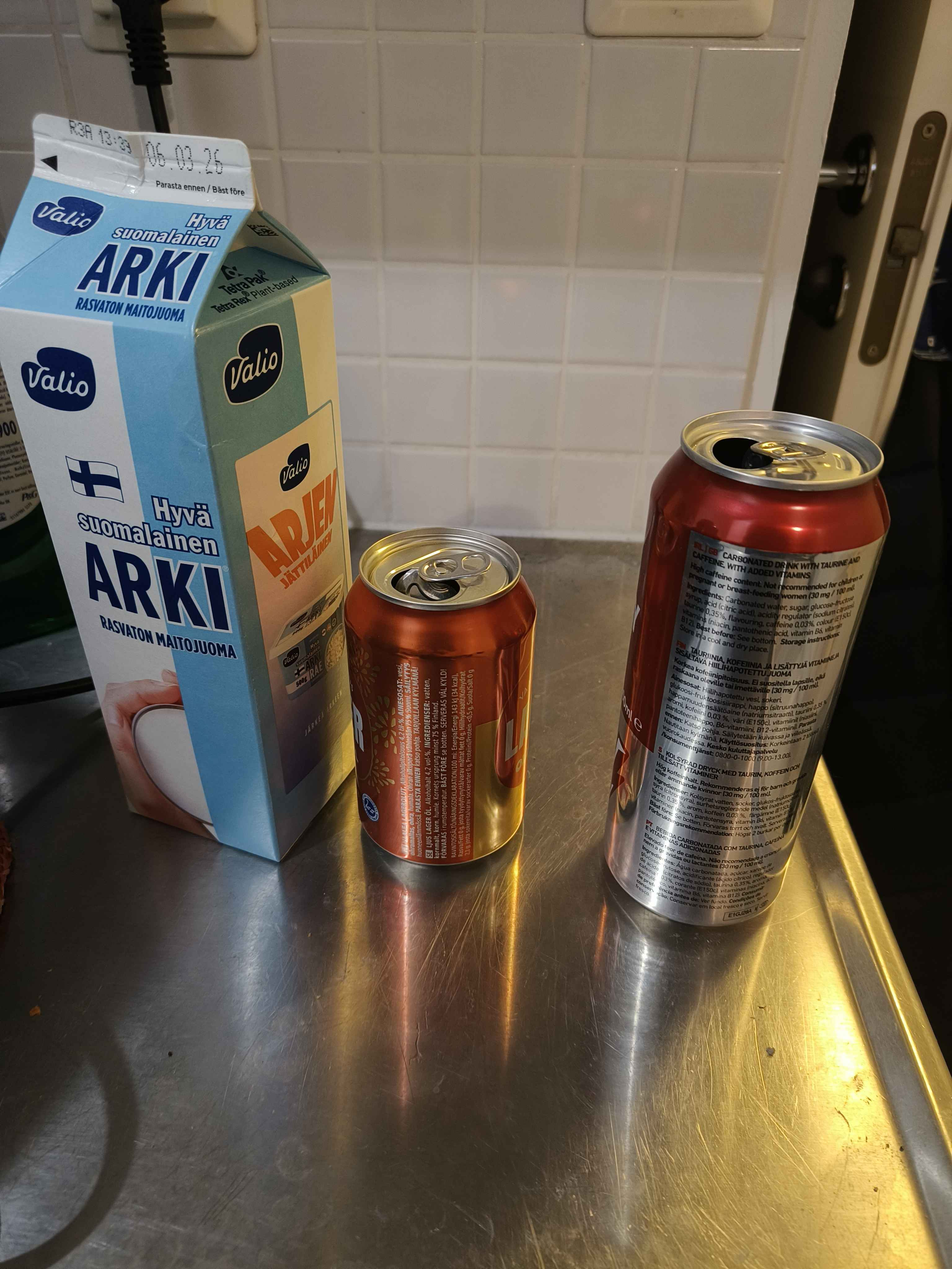Dryckeskartong: (2, 112, 356, 863)
Pantburk: (602, 406, 893, 928), (346, 522, 539, 869)
